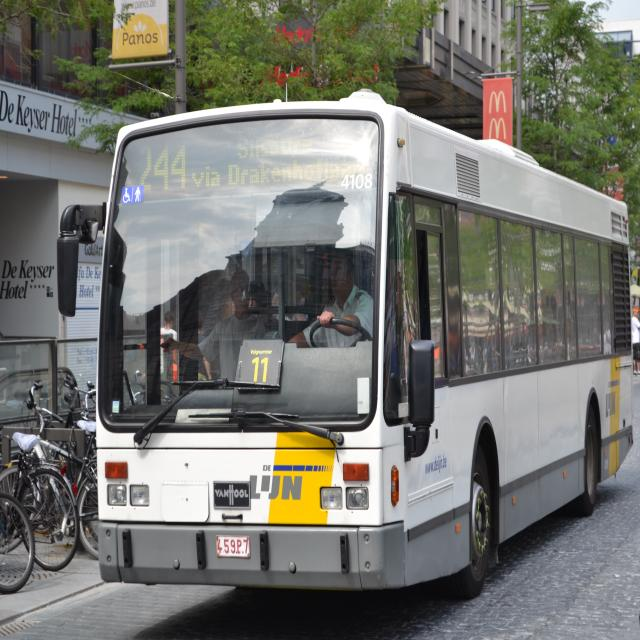bus-number: (132, 139, 192, 196)
